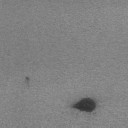iron sheet ash: (72, 98, 98, 114), (24, 76, 30, 82)
